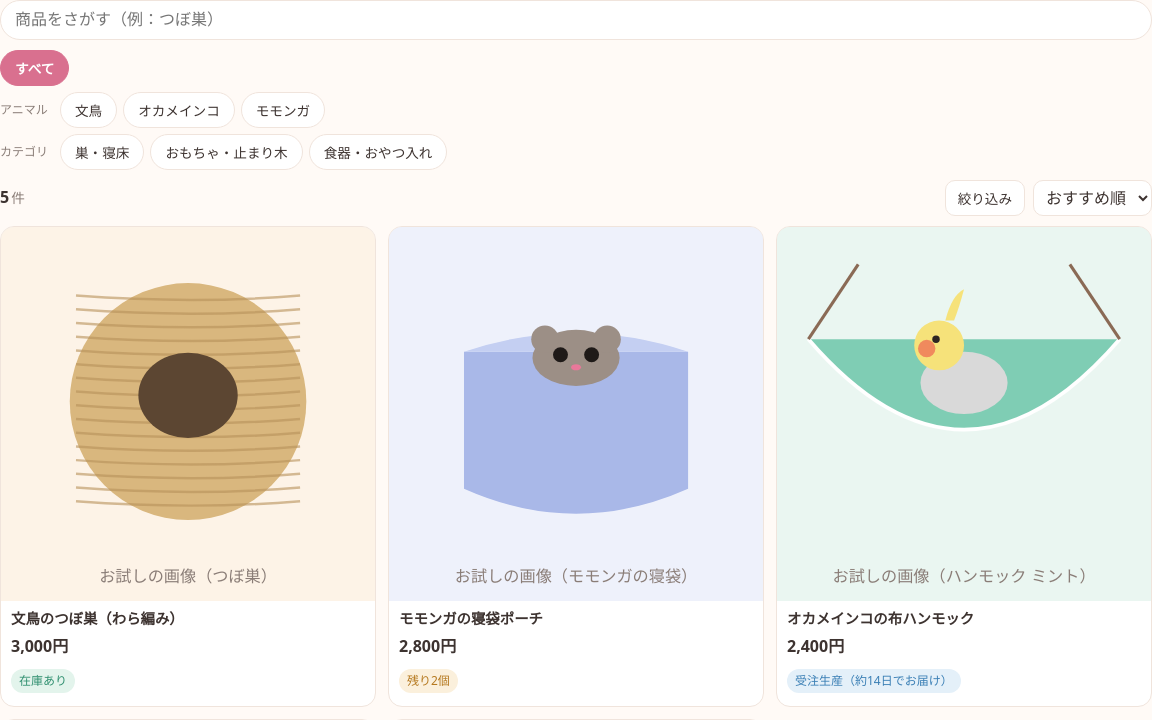
Test: 絞り込み › 並び替え・在庫あり・値段で絞り込める
Later steps or results of the test are not shown.
Select "高い順" in the dropdown at (1092, 198), box [1033, 180, 1151, 216]
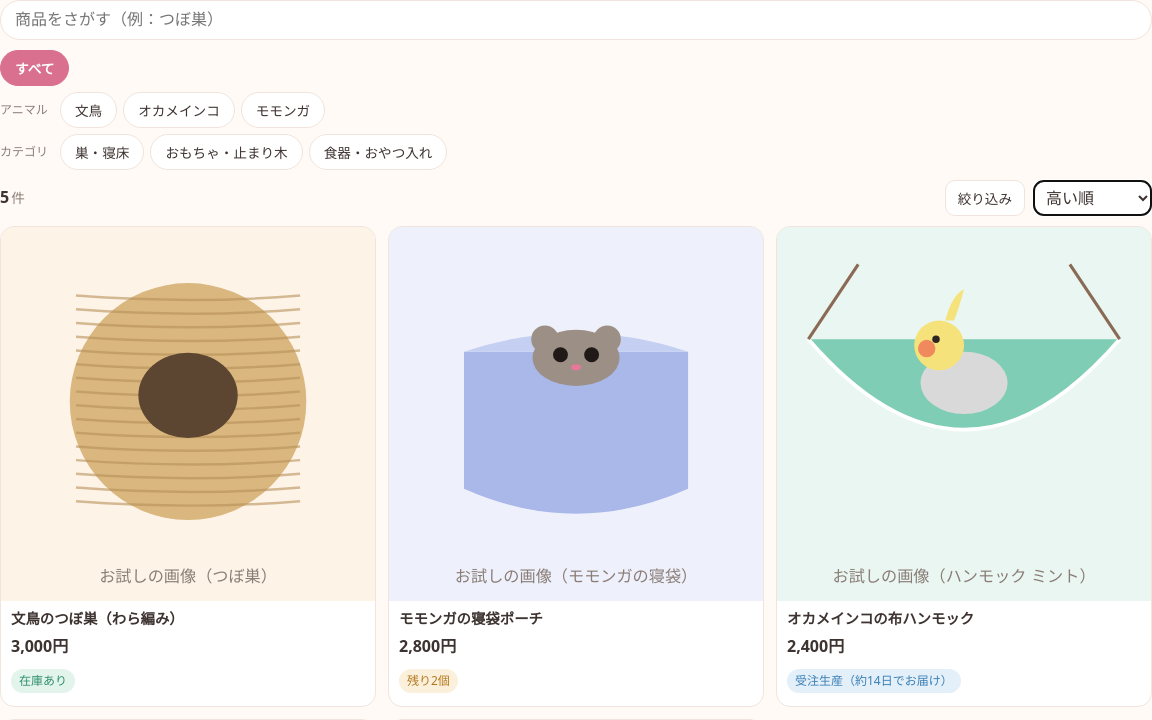
Check: the heading "文鳥のつぼ巣（わら編み）" is shown, box [11, 609, 184, 628]
Click the button "絞り込み" at (985, 198), box [945, 180, 1025, 216]
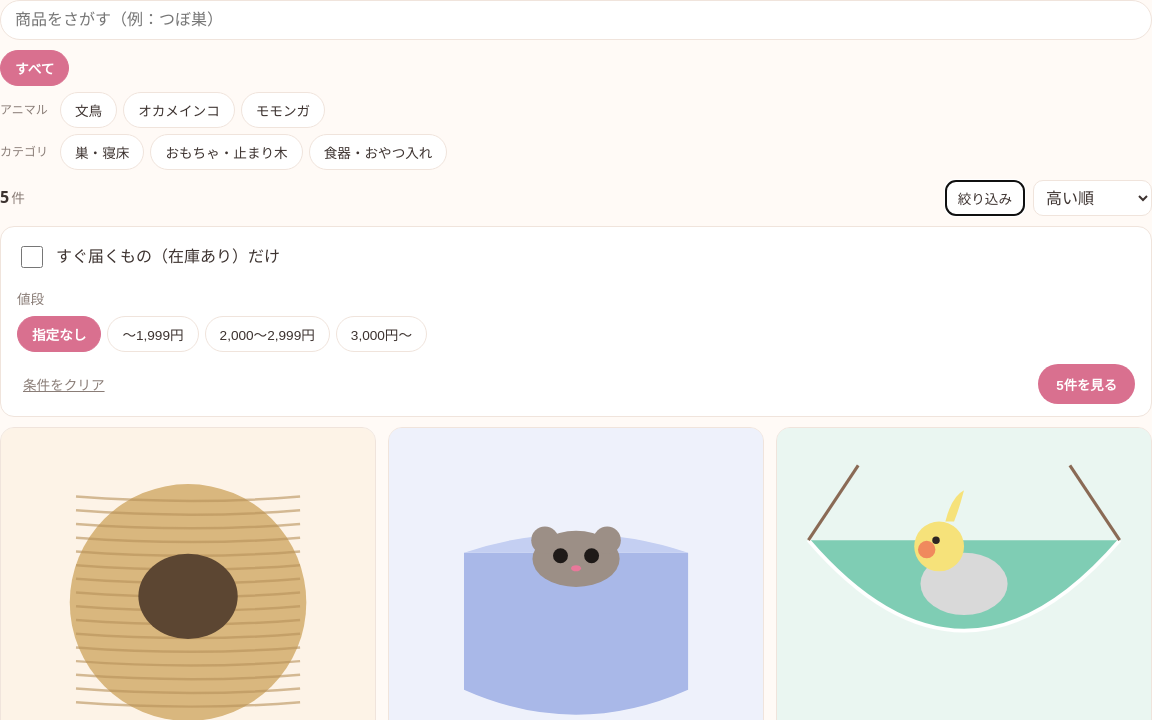
Click the checkbox labelled "すぐ届くもの（在庫あり）だけ" at (32, 257), box [21, 246, 43, 268]
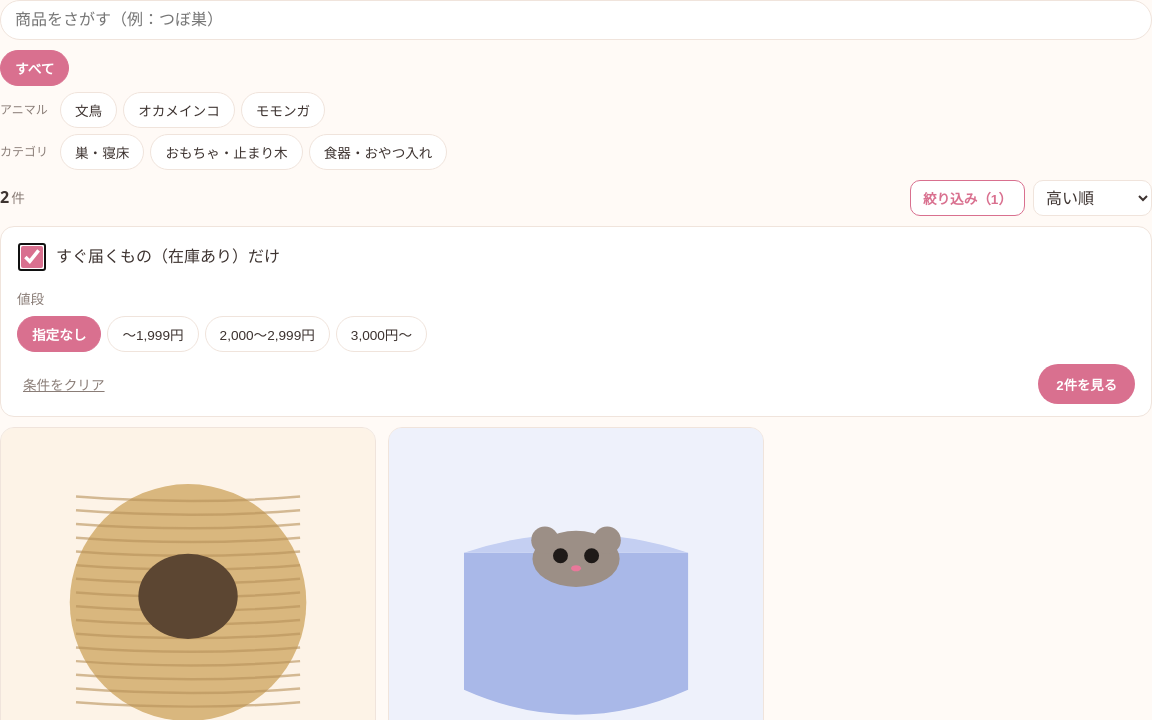
Click the button "2,000〜2,999円" at (267, 334), box [205, 316, 330, 352]
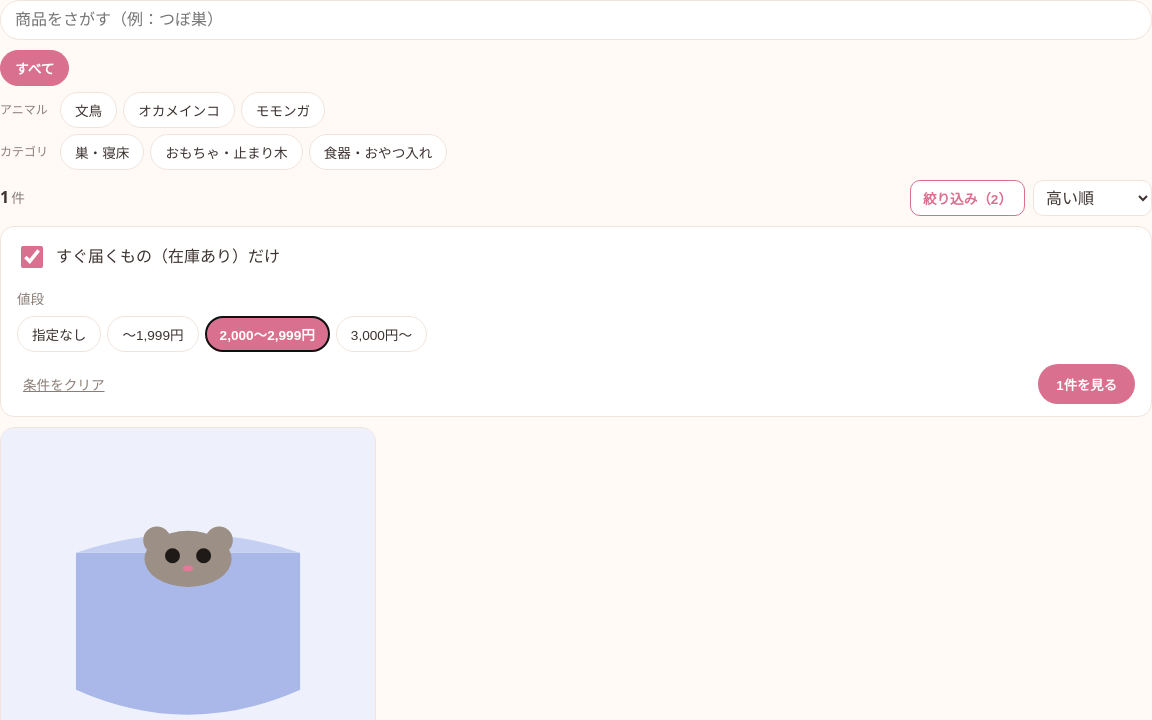
Check: the button "絞り込み（2）" is shown, box [910, 180, 1025, 216]
